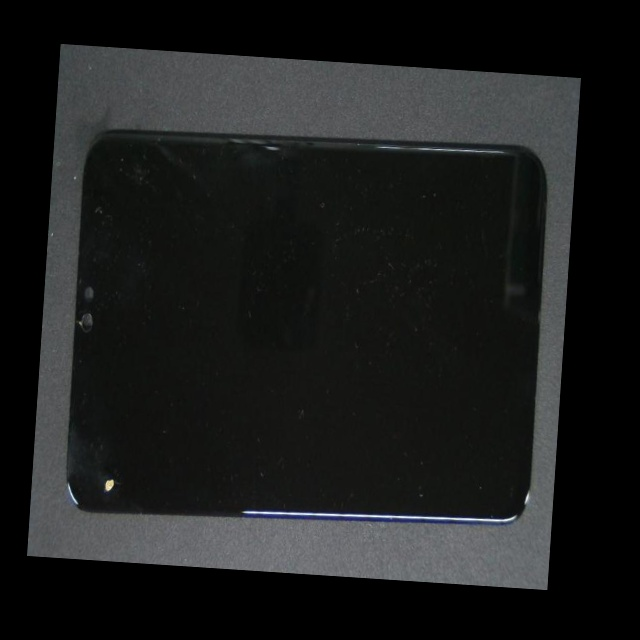stain: (73, 227, 155, 563)
